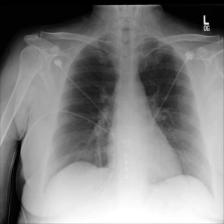normal: (42, 36, 217, 204)
